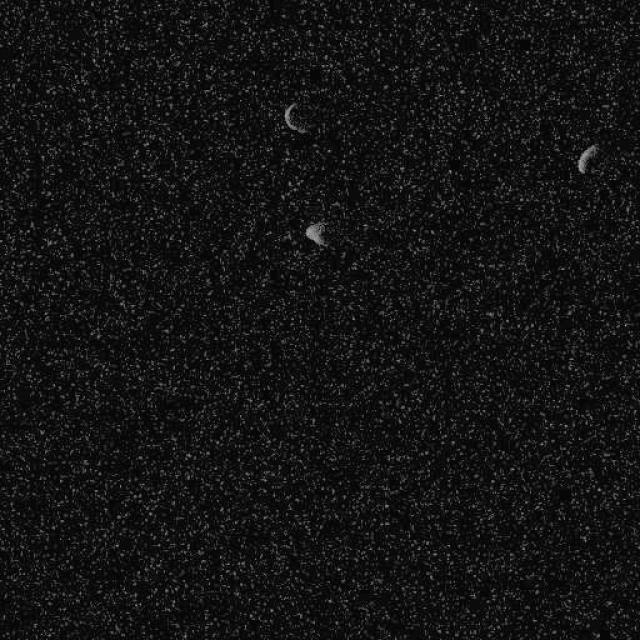D2: (282, 99, 318, 135), (576, 142, 599, 174), (304, 220, 328, 248)
